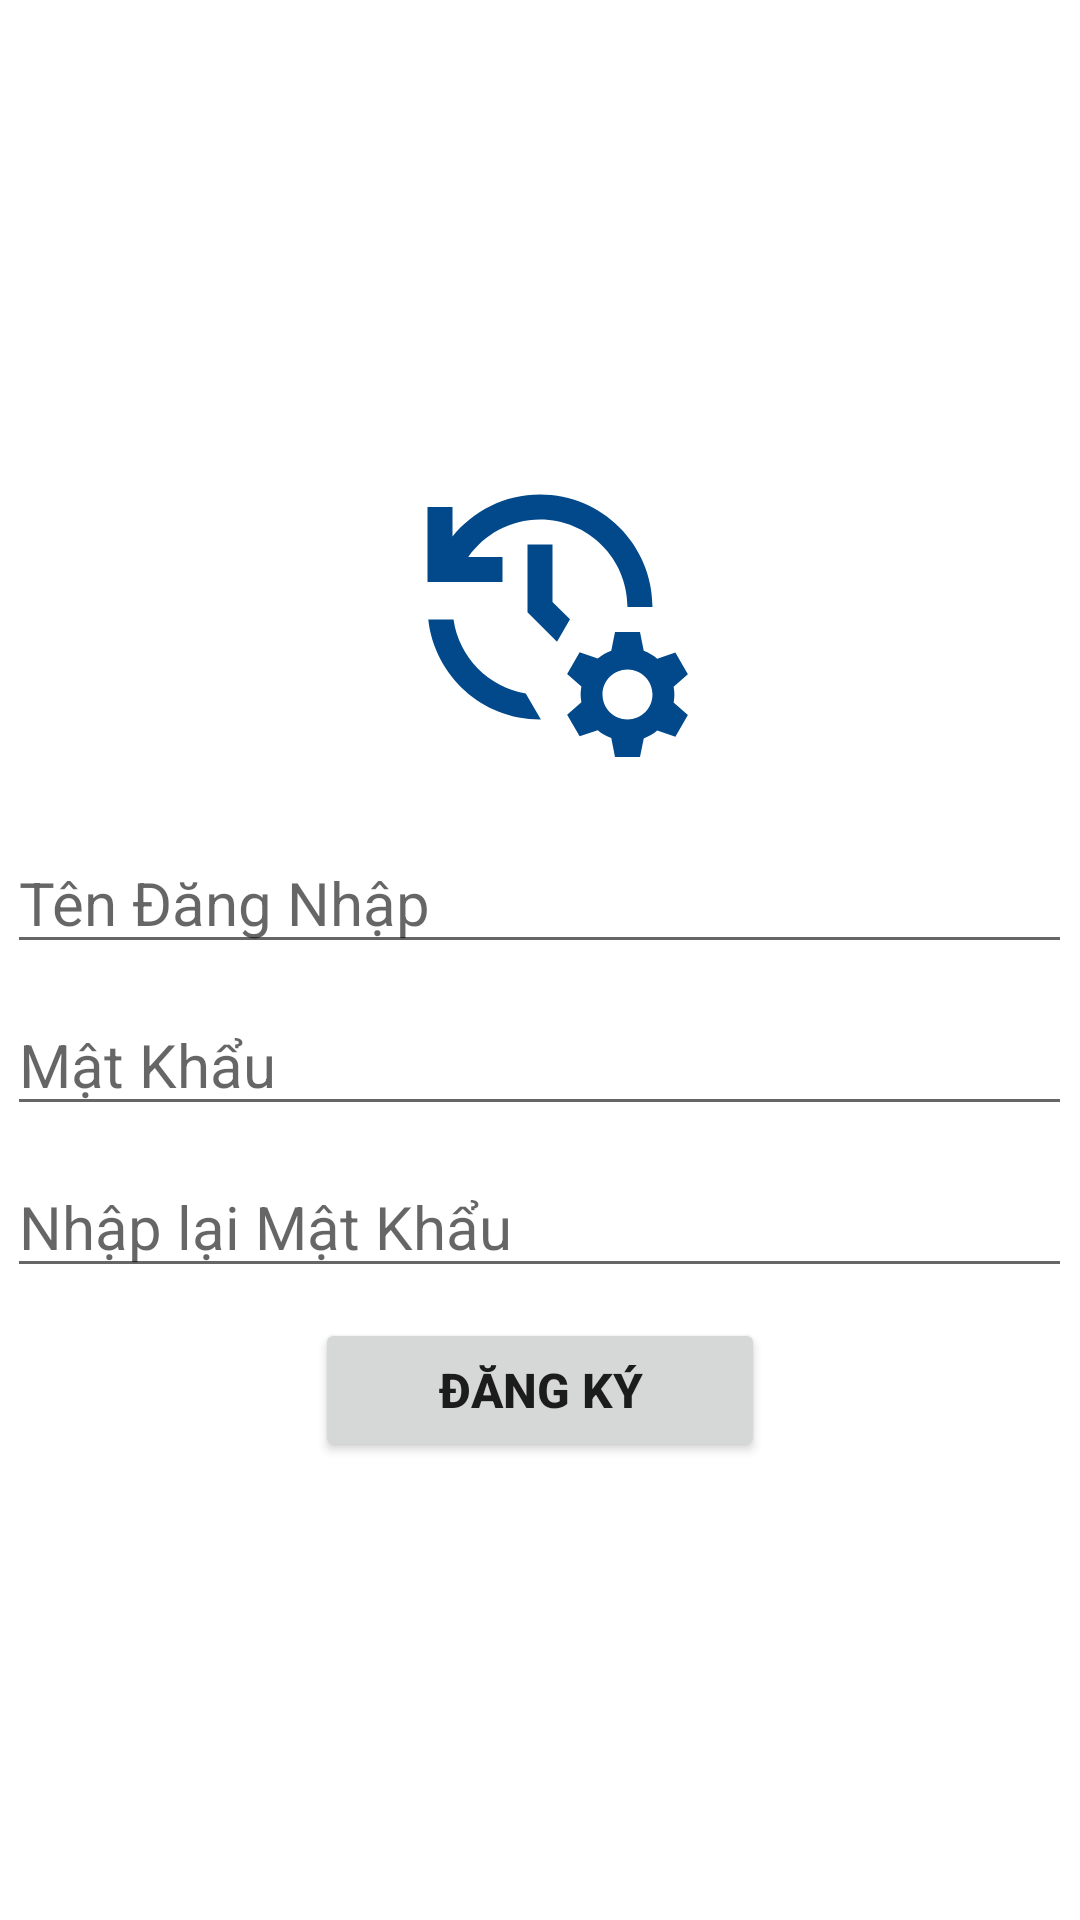

Icons on this 1080×1920 Android screen, each with the point to tap as point (x, y):
manage history: point (557, 625)
